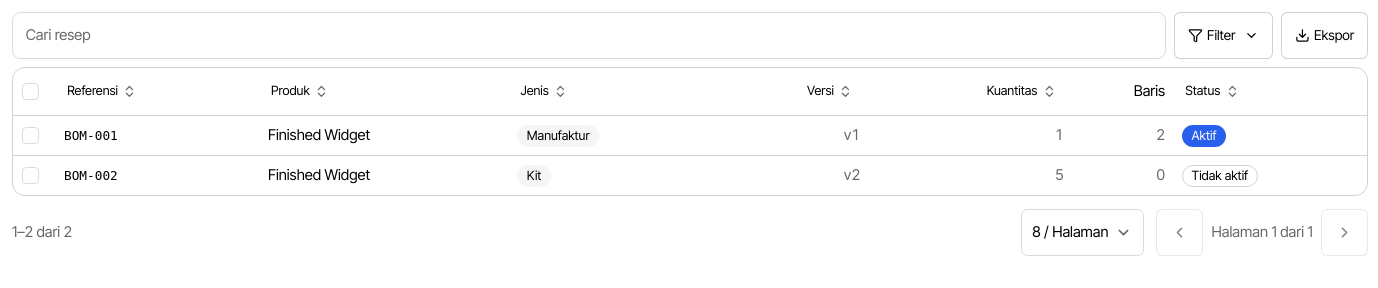
BomsTable › filters rows by search text
Type "BOM-002" into the search field with placeholder "Cari resep" at coordinates (589, 35), box [12, 12, 1166, 59]
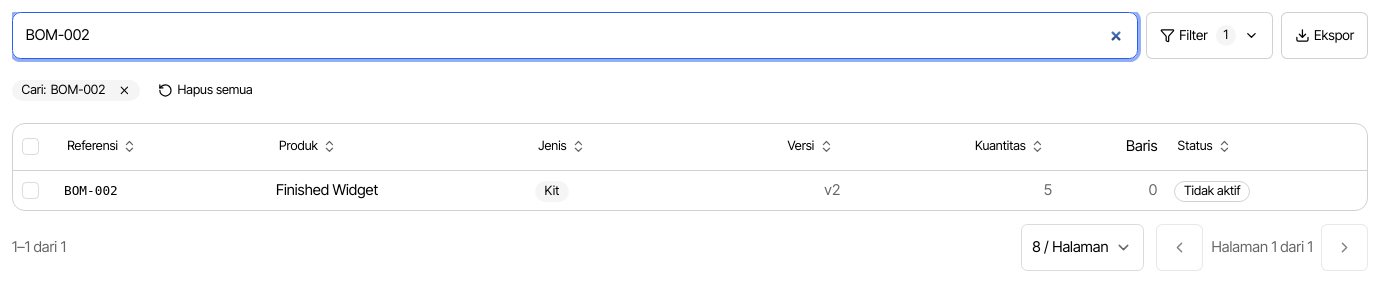
Check: the text "BOM-001" is gone
Check: the text "BOM-002" next to "Cari" is shown, box [51, 82, 105, 97]
